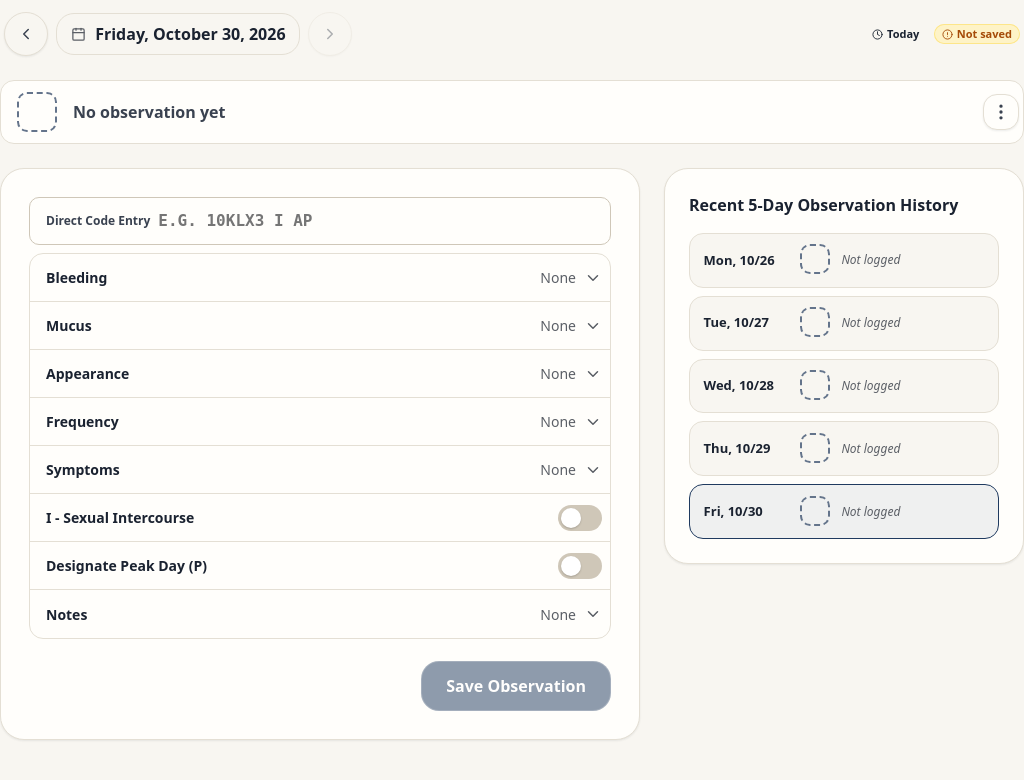
Test: TodayView Component (Dedicated Today Page) › enables save button when changes are made and disables when pristine/saved
# Initially empty or saved observation: type input to make a change
Type "10KLX3 I" into the field with placeholder "e.g. 10KLX3 I AP".
click(382, 221); type("10KLX3 I")  # box x1=158 y1=199 x2=606 y2=243
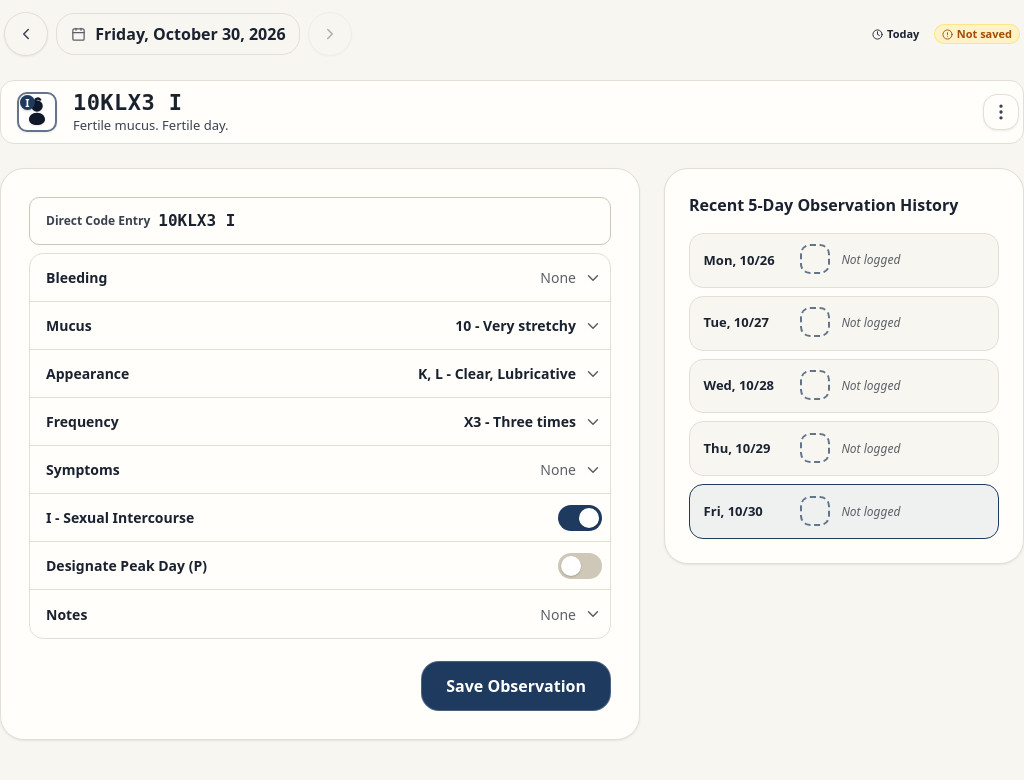
Now the button "Save Observation" is enabled
Click the button "Save Observation".
click(516, 686)  # box x1=421 y1=661 x2=611 y2=711
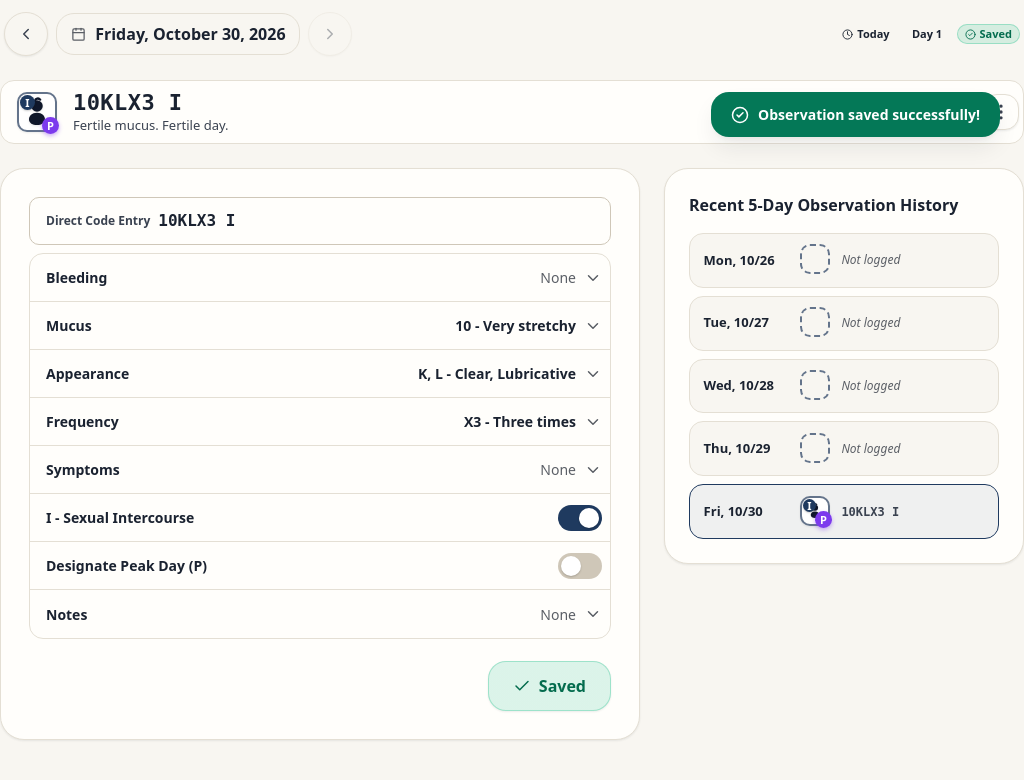
Now the text "Observation saved successfully!" is shown, box x1=758 y1=104 x2=980 y2=125
